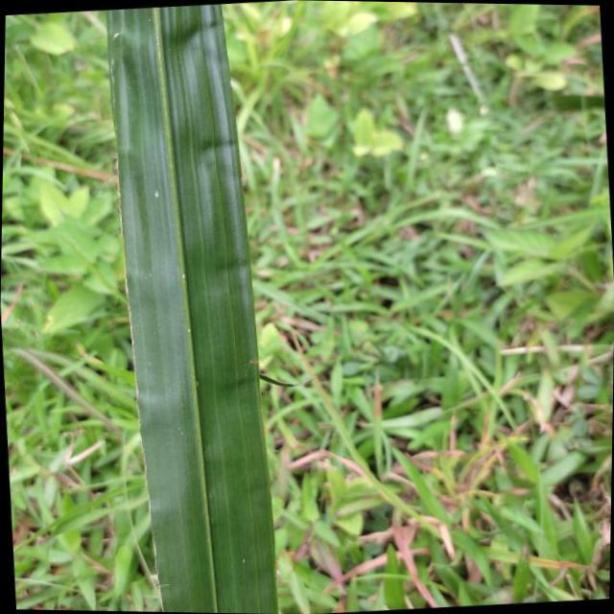Boron: (103, 1, 278, 614)
